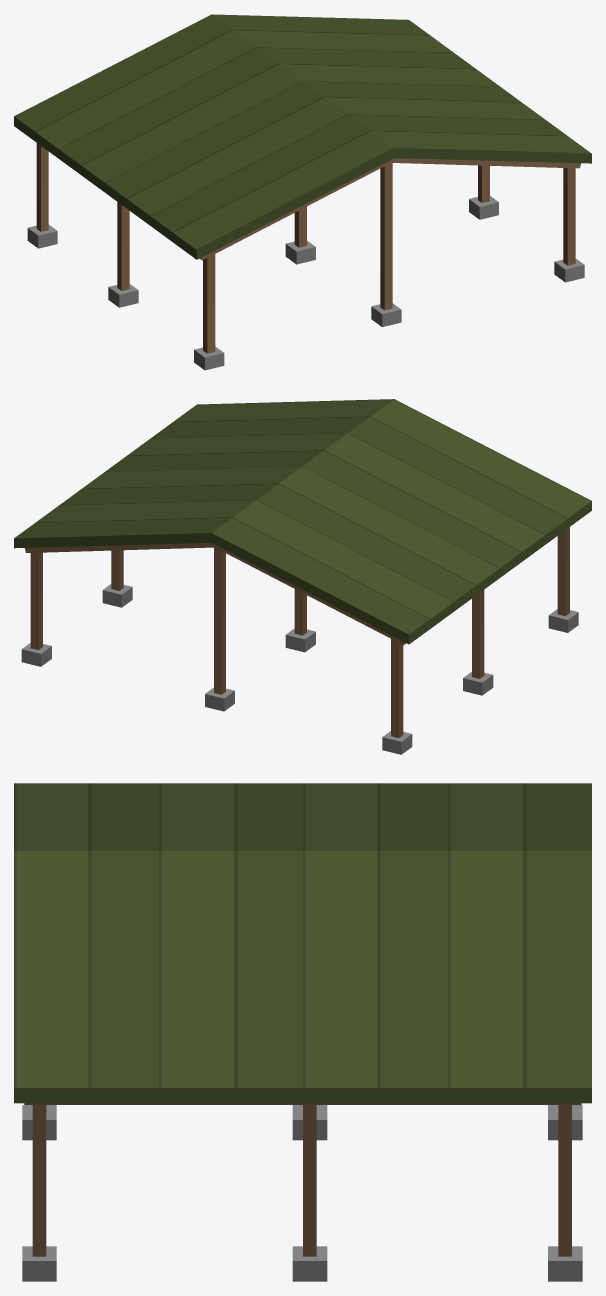
The model's file is SM_Bld_VehicleBay_01.fbx.
3 views of the same model, one above another, from view 1: azimuth 30°, elevation 25°; view 2: azimuth 150°, elevation 25°; view 3: azimuth 270°, elevation 25° (orthographic). The views are drawn at different scales.
Parts seen in each view (by area): view 1: SM_Bld_VehicleBay_01; view 2: SM_Bld_VehicleBay_01; view 3: SM_Bld_VehicleBay_01.
Part boxes in pixels (<box>): SM_Bld_VehicleBay_01: <box>14,14,591,370</box>; SM_Bld_VehicleBay_01: <box>14,399,591,754</box>; SM_Bld_VehicleBay_01: <box>14,783,591,1281</box>.
Size of the model in its own units: 1442 by 622 by 1156.
